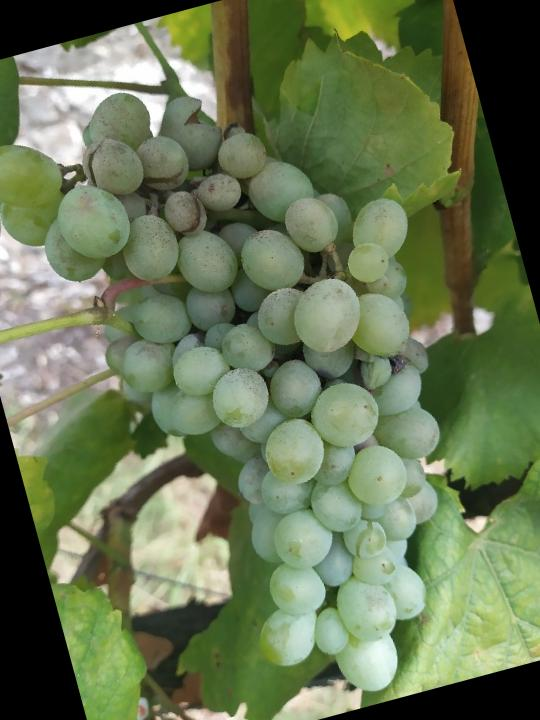grape: (0, 26, 527, 720)
